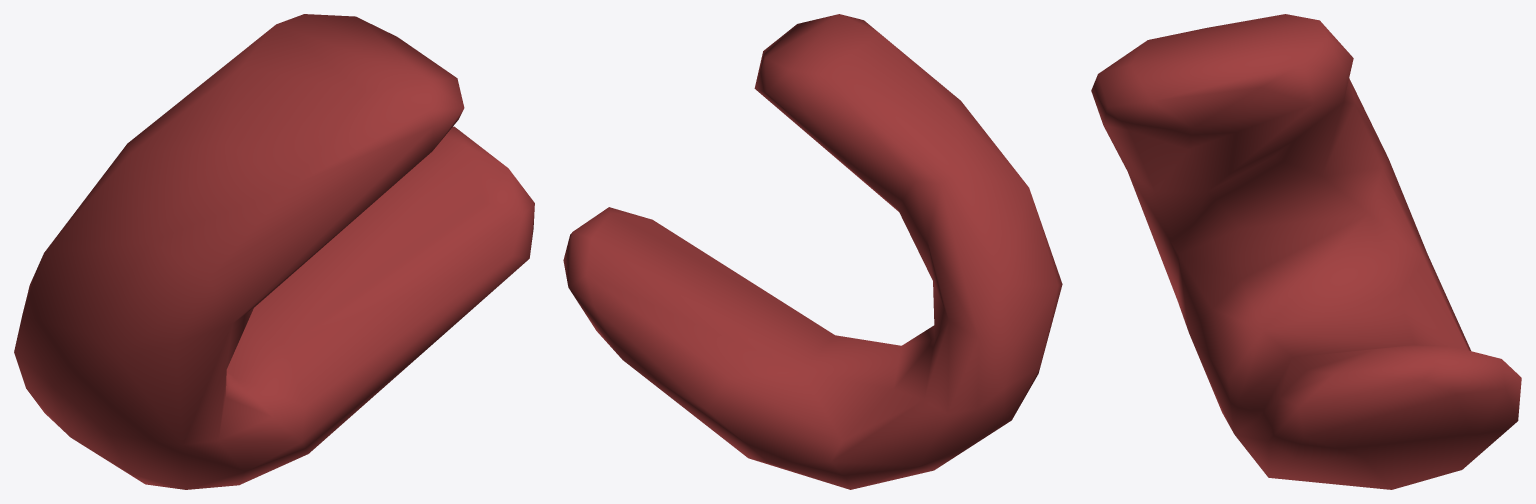
File: trochlea-of-superior-oblique-muscle-r.glb
The picture shows the model from 3 angles, left to right: view 1: azimuth 30°, elevation 25°; view 2: azimuth 150°, elevation 25°; view 3: azimuth 270°, elevation 25°; orthographic projection. The views are drawn at different scales.
Parts seen in each view (by area): view 1: Trochlea of superior oblique muscle.r; view 2: Trochlea of superior oblique muscle.r; view 3: Trochlea of superior oblique muscle.r.
Part boxes in pixels (x1,y1,x2,y2): Trochlea of superior oblique muscle.r: (14,14,534,489); Trochlea of superior oblique muscle.r: (563,14,1062,489); Trochlea of superior oblique muscle.r: (1091,14,1521,489).
Size of the model in its own units: 0.00422 by 0.00361 by 0.00294.
